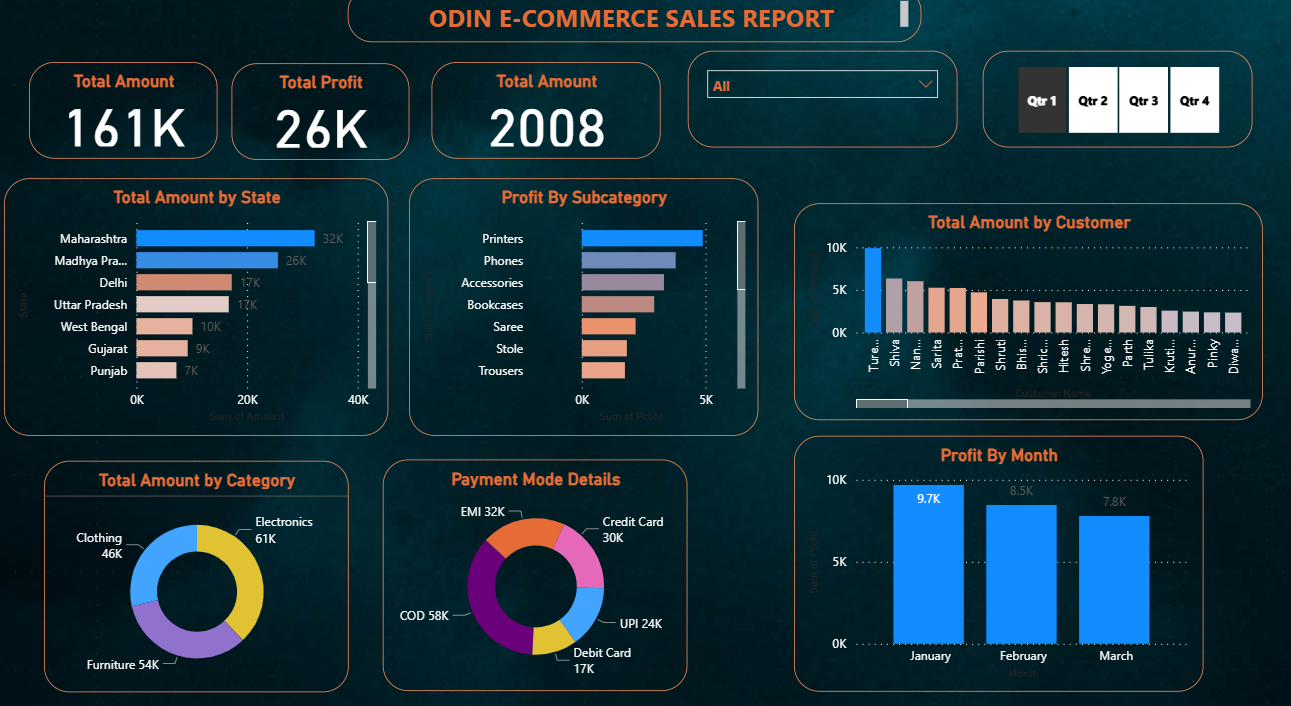

Layout of this report page (visuals, bound fields, positions):
{"tool":"powerbi","page":{"name":"Page 1","canvas":[1280,720],"ordinal":0},"visuals":[{"type":"textbox","box":[343.7,0,564.4,54.3],"z":0},{"type":"barChart","title":"Total Amount by State","fields":{"Category":["Orders.State"],"Y":["Orders Details.Amount"]},"box":[4.8,188.1,378.7,253.3],"z":1000},{"type":"columnChart","title":"Total Amount by Customer","fields":{"Y":["Orders Details.Amount"],"Category":["Orders.CustomerName"]},"box":[782.7,213.5,461.9,213.5],"z":2000},{"type":"donutChart","title":"Total Amount by Category","fields":{"Y":["Orders Details.Amount"],"Category":["Orders Details.Category"]},"box":[44.7,466,300.1,228],"z":3000},{"type":"donutChart","title":"Payment Mode Details","fields":{"Y":["Orders Details.Amount"],"Category":["Orders Details.PaymentMode"]},"box":[377.5,465.5,300.3,227.9],"z":4000},{"type":"columnChart","title":"Profit By Month","fields":{"Category":["Orders.Order Date.Variation.Date Hierarchy.Month"],"Y":["Orders Details.Profit"]},"box":[782.7,441.4,402.8,252.1],"z":5000},{"type":"barChart","title":"Profit By Subcategory","fields":{"Y":["Orders Details.Profit"],"Category":["Orders Details.Sub-Category"]},"box":[404,188.1,343.7,253.3],"z":6000},{"type":"card","title":"Total Amount","fields":{"Values":["Orders Details.Amount"]},"box":[28.9,73.6,185.7,95.3],"z":7000},{"type":"card","title":"Total Profit","fields":{"Values":["Orders Details.Profit"]},"box":[229.1,74.8,174.9,95.3],"z":8000},{"type":"card","title":"Total Amount","fields":{"Values":["Orders Details.Quantity"]},"box":[425.7,73.6,225.5,95.3],"z":9000},{"type":"slicer","title":"Total Amount","fields":{"Values":["Orders.State"]},"box":[677.8,62.7,265.3,95.3],"z":10000},{"type":"slicer","title":"Total Amount","fields":{"Values":["Orders.Order Date.Variation.Date Hierarchy.Quarter"]},"box":[968.4,62.7,265.3,95.3],"z":11000}]}

Visuals, with their boxes in screenshot pixels (x1, y1, x2, y2), scaled from the page's 1280x720 canvas onto the 1291x706 screenshot:
textbox: (left=347, top=0, right=916, bottom=53)
"Total Amount by State" barChart: (left=5, top=184, right=387, bottom=433)
"Total Amount by Customer" columnChart: (left=789, top=209, right=1255, bottom=419)
"Total Amount by Category" donutChart: (left=45, top=457, right=348, bottom=681)
"Payment Mode Details" donutChart: (left=381, top=456, right=684, bottom=680)
"Profit By Month" columnChart: (left=789, top=433, right=1196, bottom=680)
"Profit By Subcategory" barChart: (left=407, top=184, right=754, bottom=433)
"Total Amount" card: (left=29, top=72, right=216, bottom=166)
"Total Profit" card: (left=231, top=73, right=407, bottom=167)
"Total Amount" card: (left=429, top=72, right=657, bottom=166)
"Total Amount" slicer: (left=684, top=61, right=951, bottom=155)
"Total Amount" slicer: (left=977, top=61, right=1244, bottom=155)
